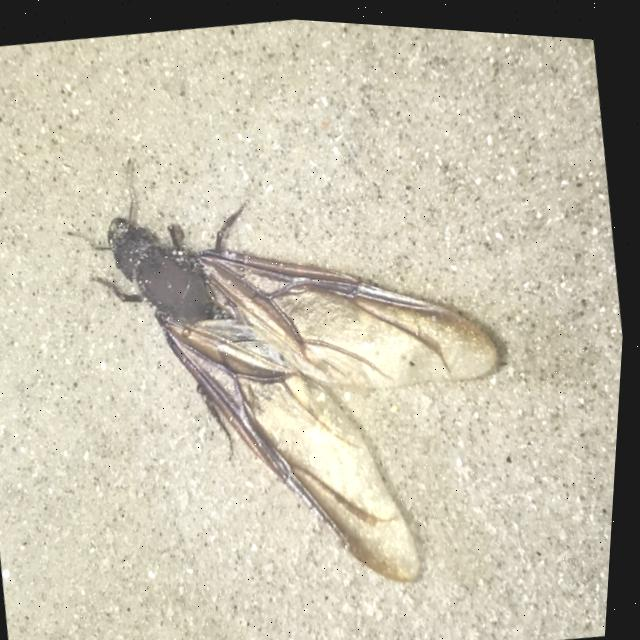Alive-Female-Alate: (41, 102, 545, 632)
